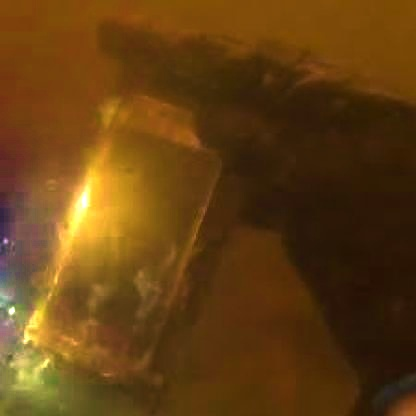cellphone: (39, 96, 224, 388)
